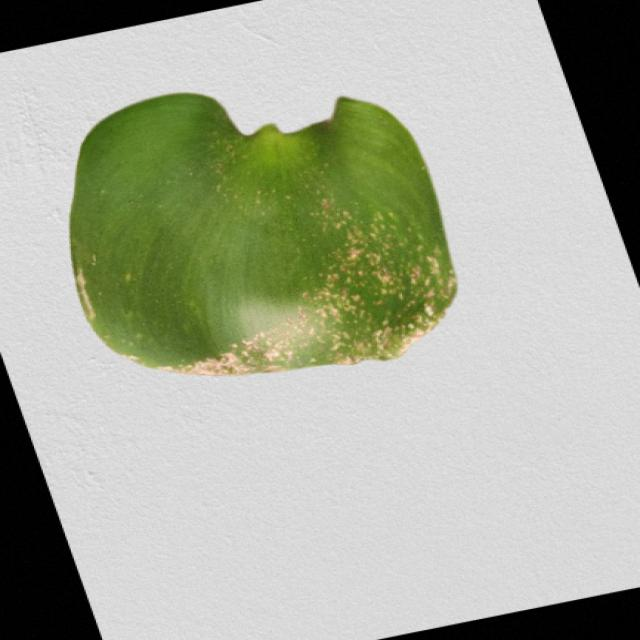daun berpenyakit bercak: (70, 94, 456, 375)
